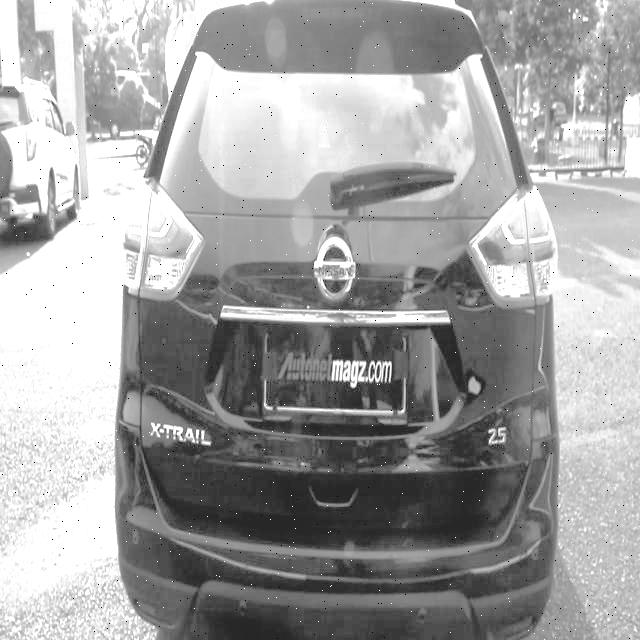Car: (118, 0, 562, 640), (0, 66, 88, 240)
